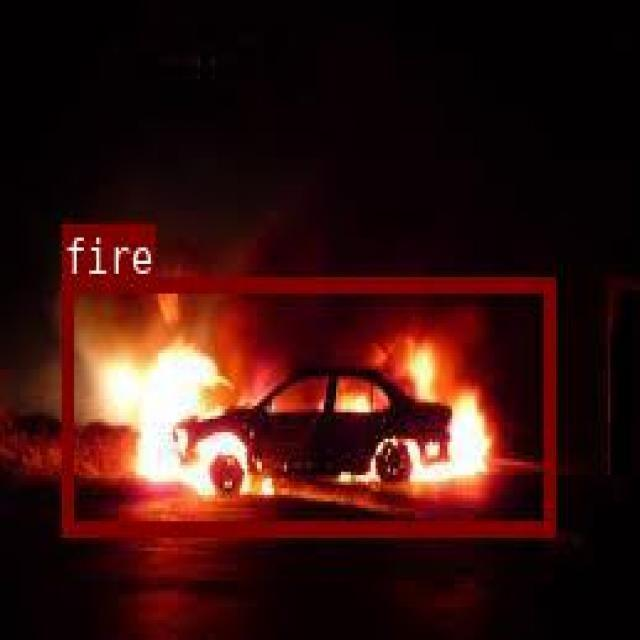fire: (61, 277, 552, 534)
